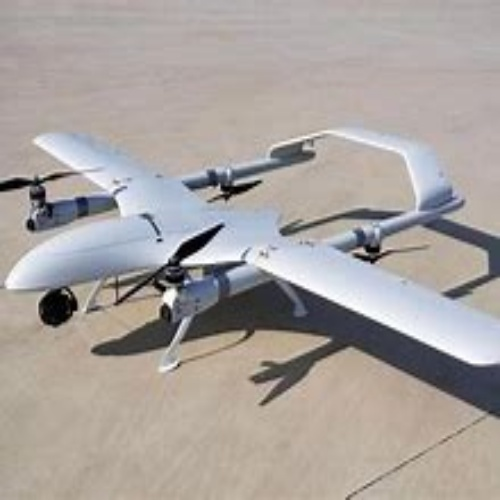uav: (3, 124, 498, 373)
